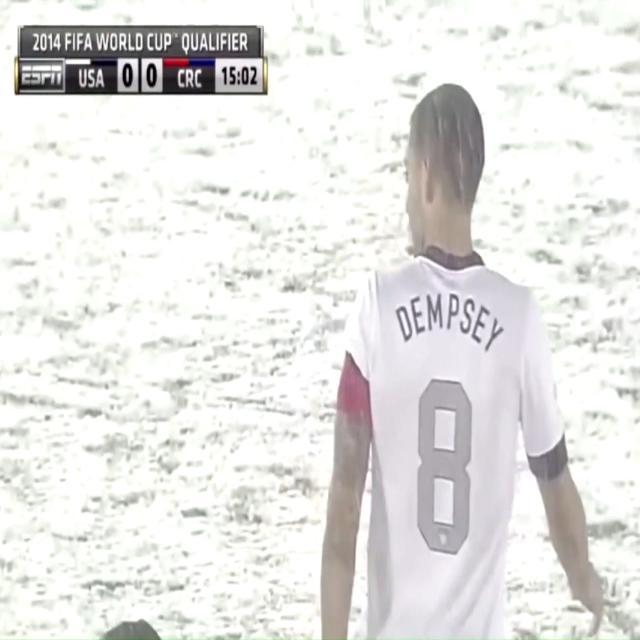player: (321, 41, 605, 640)
